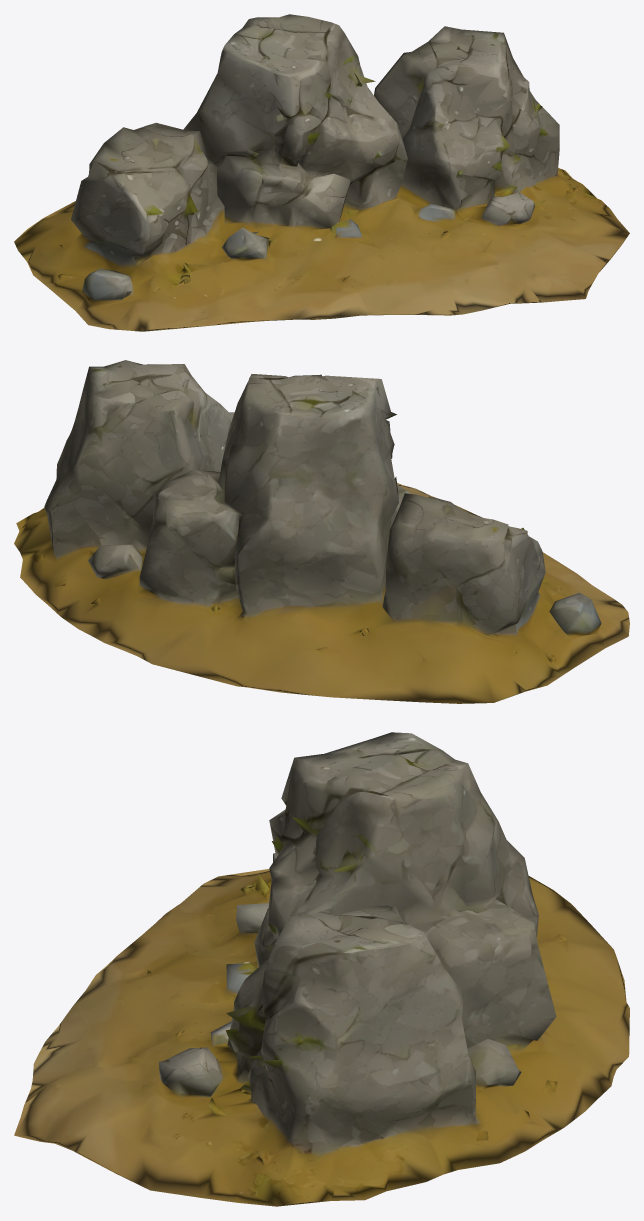
File: tripo_road_edge.glb
3 renders of one model, top to bottom at view 1: azimuth 30°, elevation 25°; view 2: azimuth 150°, elevation 25°; view 3: azimuth 270°, elevation 25°, orthographic. The views are drawn at different scales.
Visible parts, largest first — view 1: tripo_node_eea99847-1761-4be9-a23e-cf07be00c25e; view 2: tripo_node_eea99847-1761-4be9-a23e-cf07be00c25e; view 3: tripo_node_eea99847-1761-4be9-a23e-cf07be00c25e.
Part boxes in pixels (x1,y1,x2,y2): tripo_node_eea99847-1761-4be9-a23e-cf07be00c25e: [14, 14, 629, 331]; tripo_node_eea99847-1761-4be9-a23e-cf07be00c25e: [14, 360, 629, 703]; tripo_node_eea99847-1761-4be9-a23e-cf07be00c25e: [14, 732, 629, 1206].
Bounding box in the file's own units: 1 × 0.3699 × 0.7767.
Materials: 1 (1 with a texture image).
